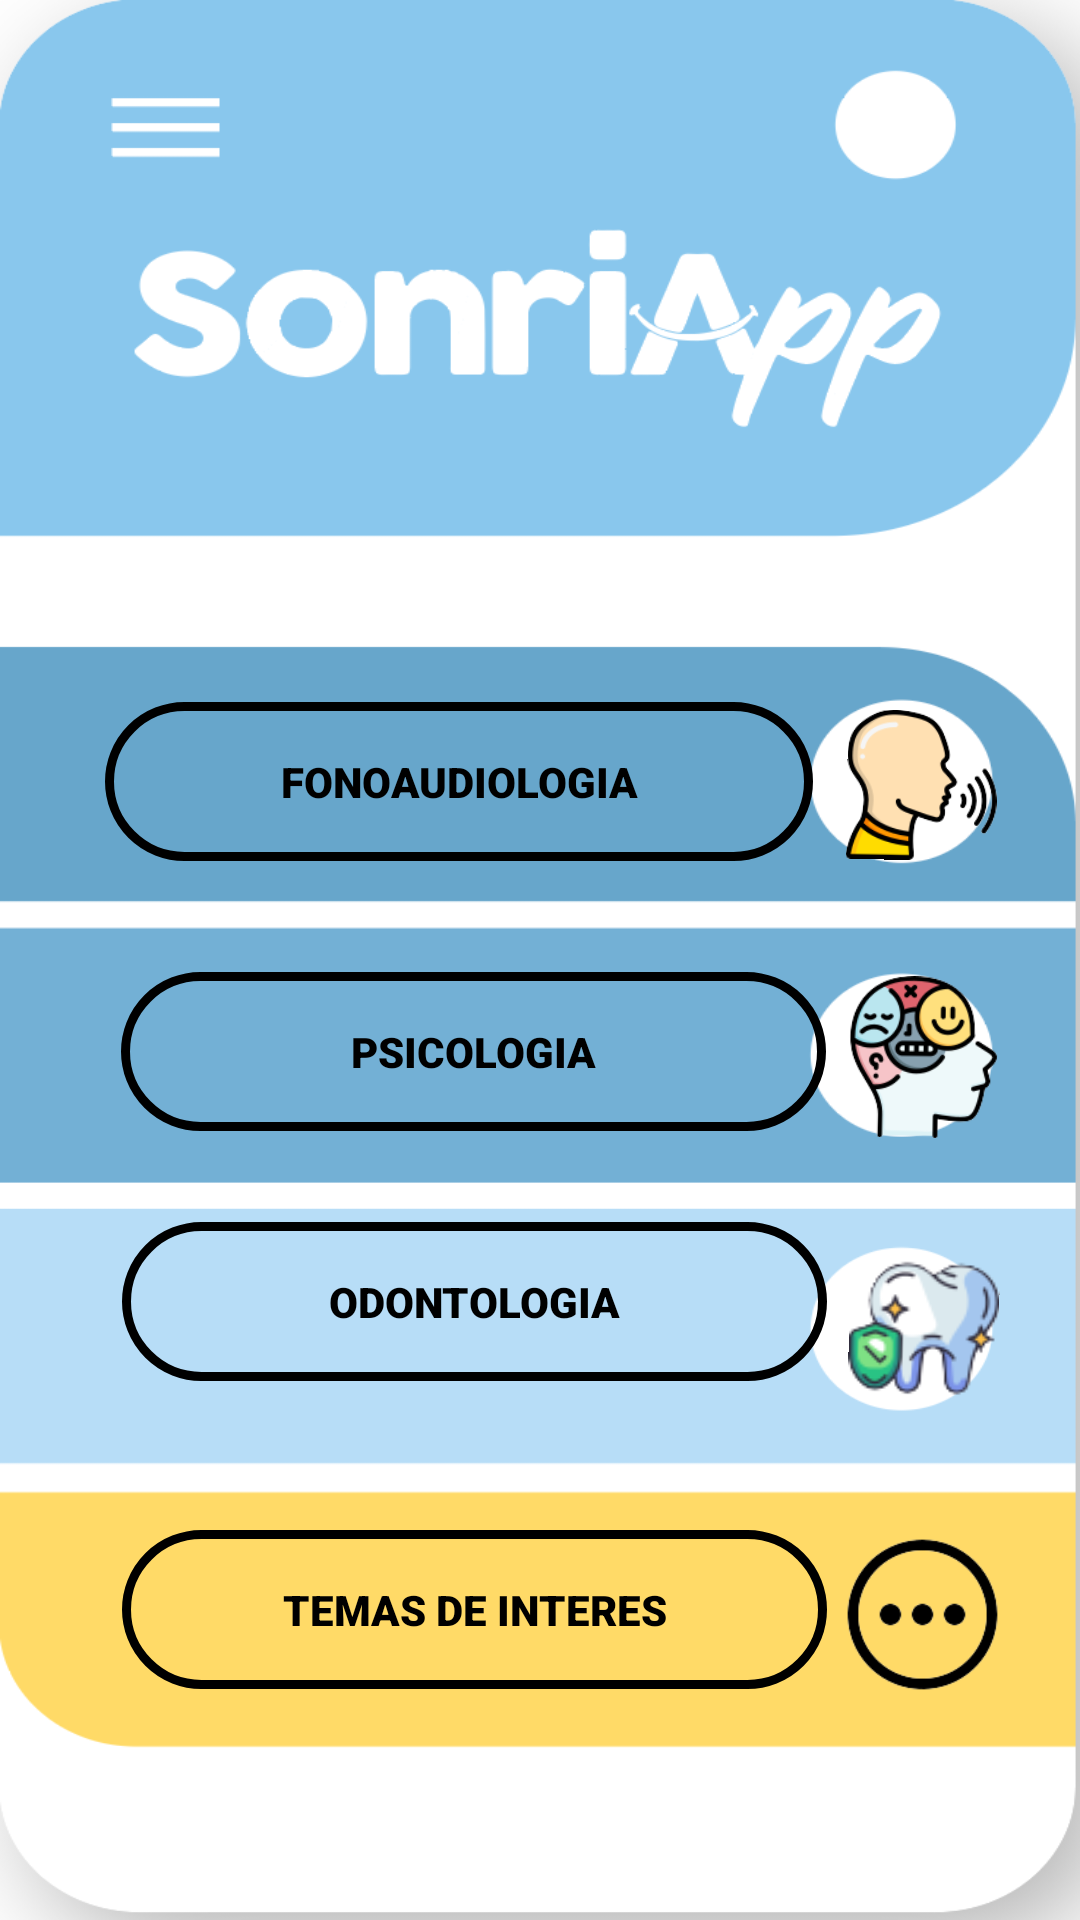

Where to tap for icons on this 1080px x 1920px app screen, as [x,y]:
mas: [922,1614]
